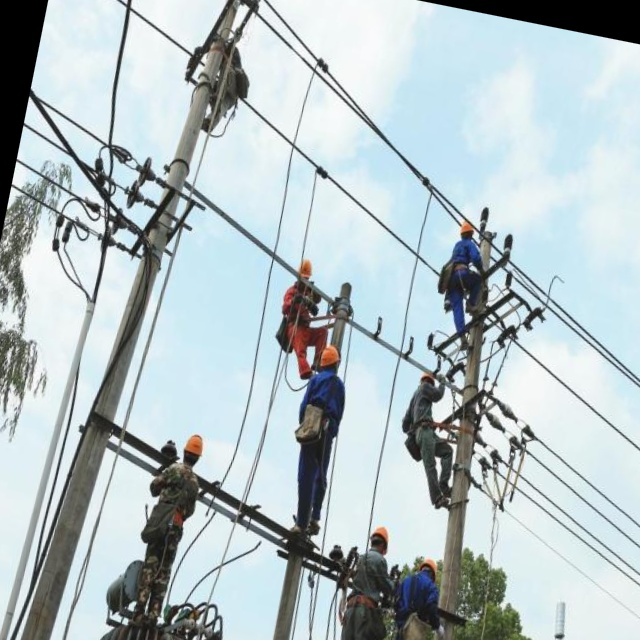Con_Casco: (181, 429, 208, 469), (367, 523, 395, 555), (319, 342, 343, 372)
